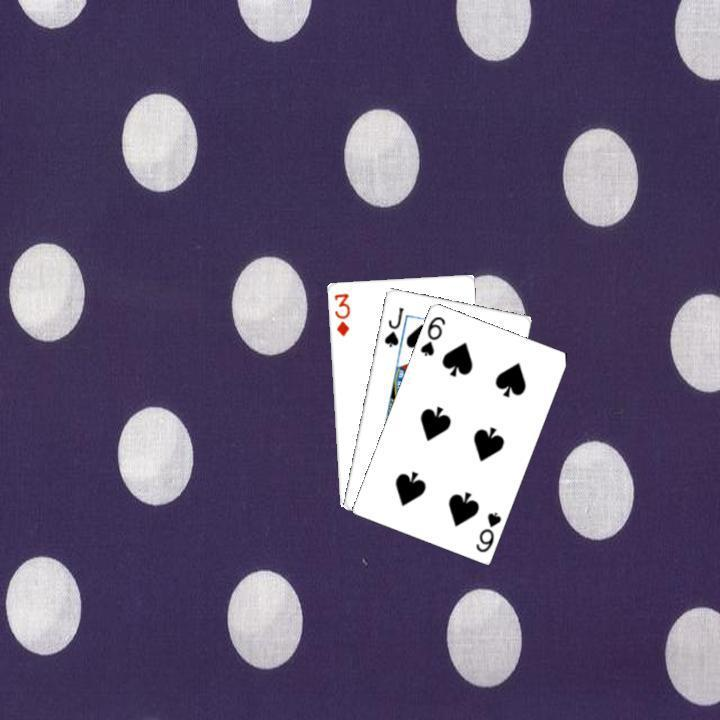3: (329, 289, 352, 338)
6: (471, 507, 503, 554), (416, 311, 447, 358)
J: (380, 303, 405, 349)
